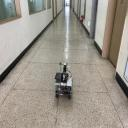cart: (54, 74, 72, 100)
